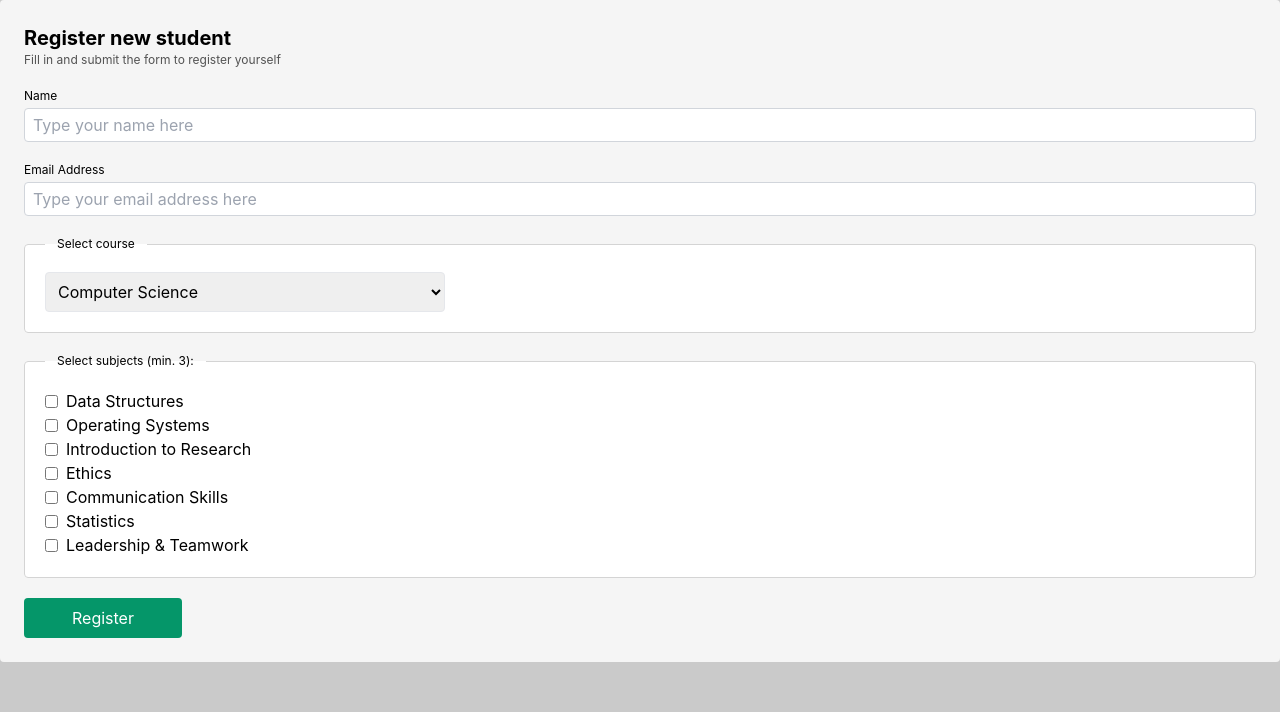
Test case: RegistrationForm › shows 3 validation errors when submitting without data
Click the button "Register".
click(103, 618)  # box [24, 598, 182, 638]
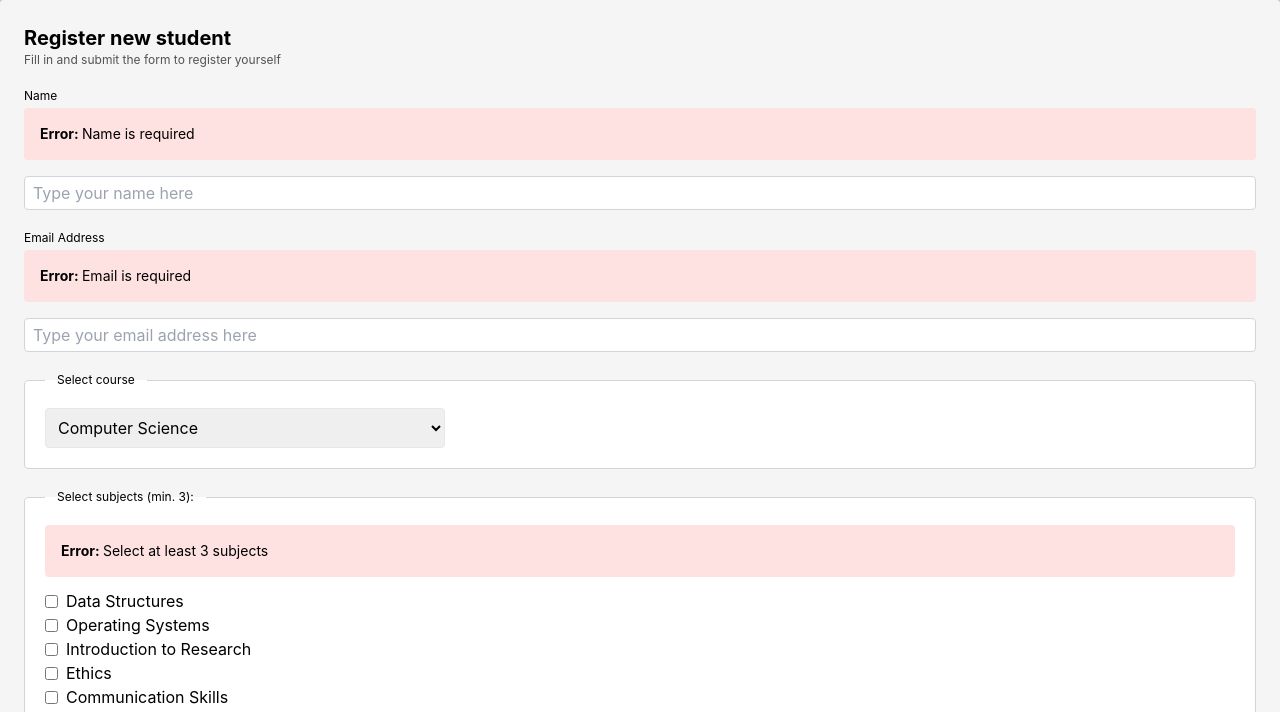
Now the text "Error:" is shown 3 times, box [40, 125, 82, 142]; [40, 267, 82, 284]; [61, 542, 103, 559]
